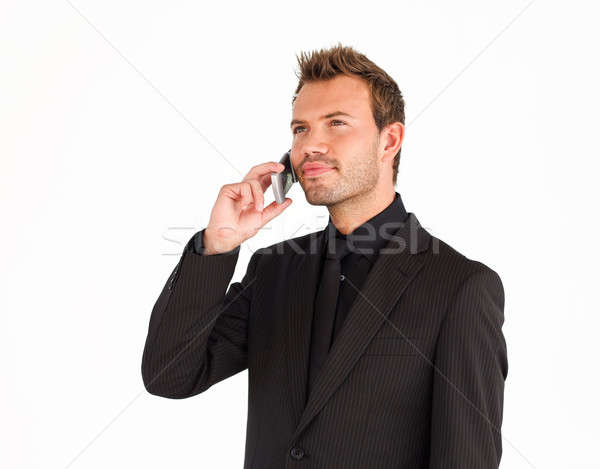phone: (259, 143, 306, 215)
talk: (208, 90, 364, 248)
